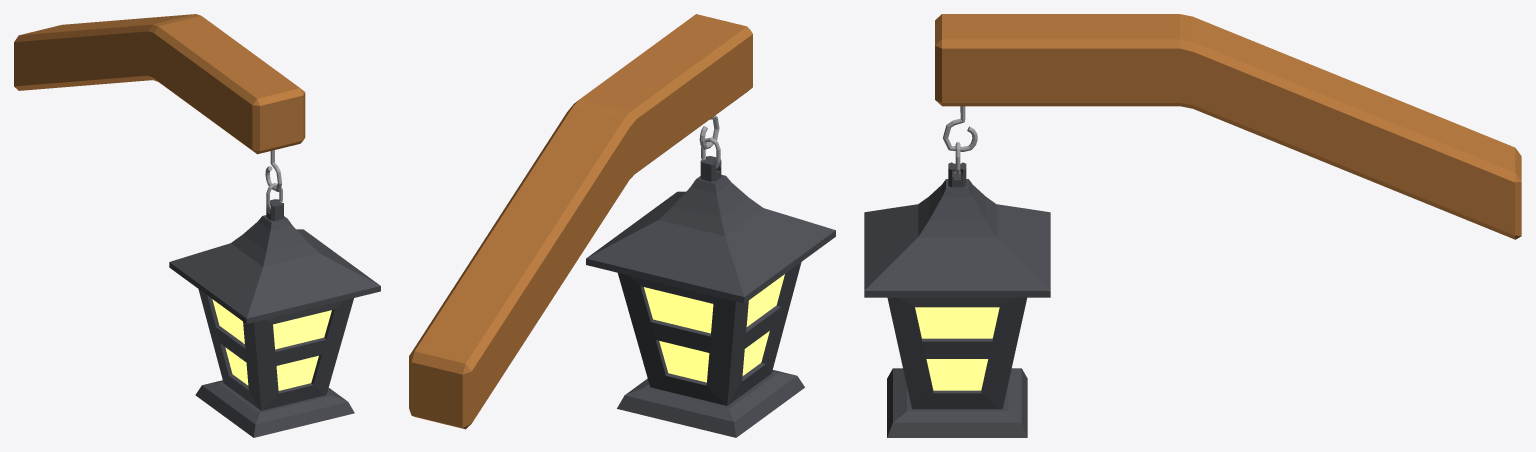
The model's file is lantern.fbx.
3 views of the same model, side by side, from view 1: azimuth 30°, elevation 25°; view 2: azimuth 150°, elevation 25°; view 3: azimuth 270°, elevation 25° (orthographic). The views are drawn at different scales.
Visible parts, largest first — view 1: Cube.005, Cube.006; view 2: Cube.006, Cube.005; view 3: Cube.006, Cube.005.
Part boxes in pixels (x1,y1,x2,y2): Cube.005: (169, 199, 380, 437); Cube.006: (14, 14, 305, 154); Cube.006: (409, 14, 752, 429); Cube.005: (586, 156, 835, 437); Cube.006: (935, 14, 1521, 239); Cube.005: (864, 162, 1050, 437).
Size of the model in its own units: 333 by 750 by 1177.
